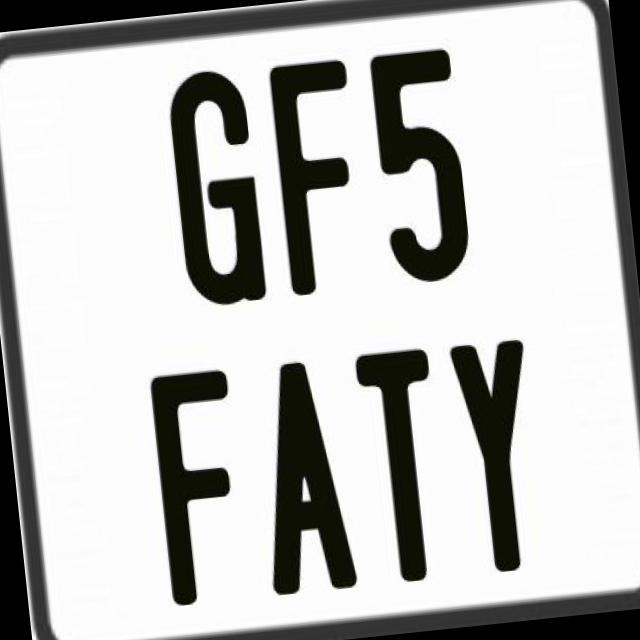5: (368, 46, 476, 286)
A: (245, 356, 358, 596)
F: (148, 365, 254, 612), (265, 55, 369, 296)
G: (162, 62, 272, 307)
T: (354, 345, 457, 591)
Y: (447, 336, 551, 572)
